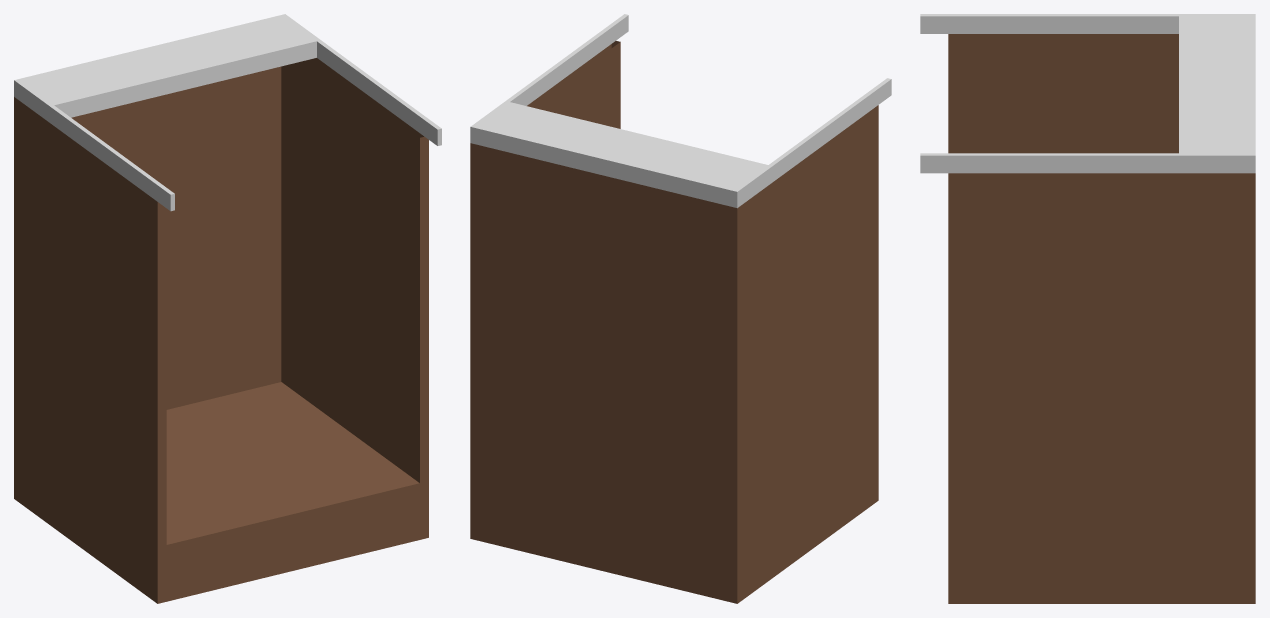
File: Kitchen1_C2_06.fbx
3 renders of one model, left to right at view 1: azimuth 30°, elevation 25°; view 2: azimuth 150°, elevation 25°; view 3: azimuth 270°, elevation 25°, orthographic. The views are drawn at different scales.
Parts seen in each view (by area): view 1: Kitchen1_C2_06; view 2: Kitchen1_C2_06; view 3: Kitchen1_C2_06.
Part boxes in pixels (x1=…): Kitchen1_C2_06: x1=14, y1=14, x2=441, y2=603; Kitchen1_C2_06: x1=470, y1=14, x2=891, y2=603; Kitchen1_C2_06: x1=920, y1=14, x2=1255, y2=603.
Bounding box in the file's own units: 60 × 88.5 × 60.
